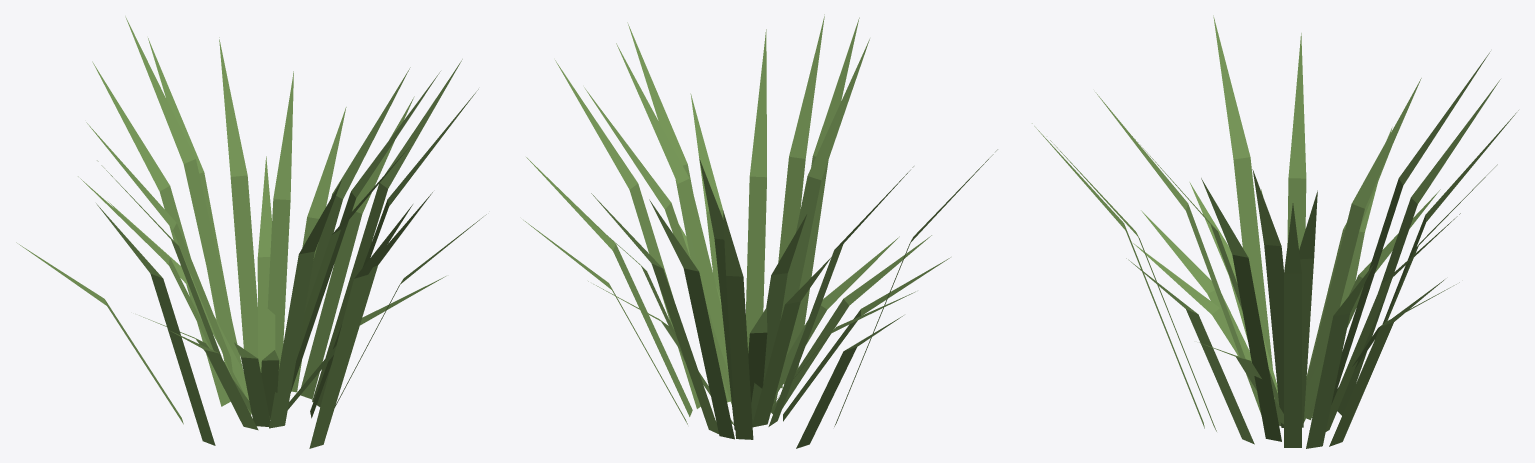
Rendered from grass.glb.
3 views of the same model, side by side, from view 1: azimuth 30°, elevation 25°; view 2: azimuth 150°, elevation 25°; view 3: azimuth 270°, elevation 25° (orthographic). The views are drawn at different scales.
Visible parts, largest first — view 1: understory_grass_LOD0; view 2: understory_grass_LOD0; view 3: understory_grass_LOD0.
Part boxes in pixels (box(x1,y1,x2,y2)): understory_grass_LOD0: box(16, 16, 486, 448); understory_grass_LOD0: box(523, 14, 997, 448); understory_grass_LOD0: box(1032, 15, 1518, 448).
Size of the model in its own units: 0.9689 by 0.7778 by 0.982.
